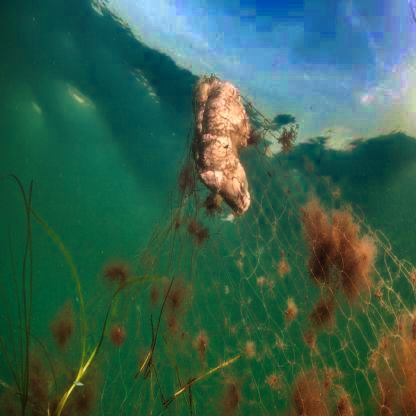net: (146, 176, 396, 416)
